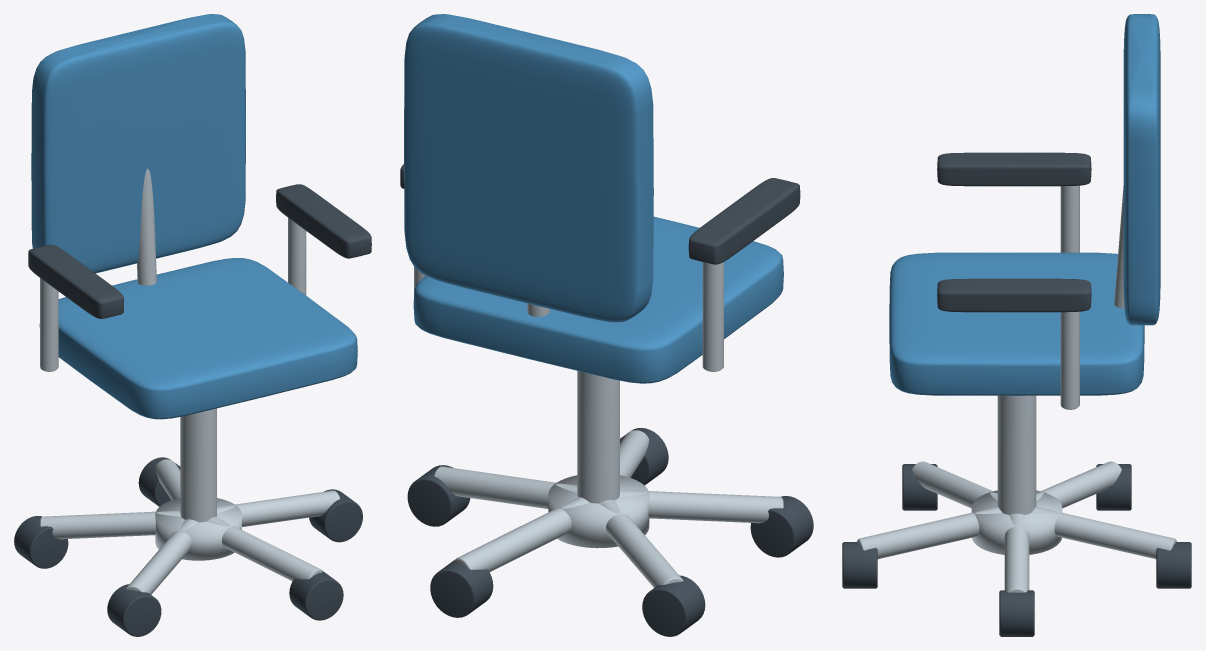
File: engineer_chair.glb
3 renders of one model, left to right at view 1: azimuth 30°, elevation 25°; view 2: azimuth 150°, elevation 25°; view 3: azimuth 270°, elevation 25°, orthographic. The views are drawn at different scales.
Visible parts, largest first — view 1: Backrest_Cushion, Seat_Cushion, Gas_Lift_Outer, Armrest_0.28, Armrest_-0.28, Five_Spoke_Hub, Spoke_3, Spoke_1, Spoke_0, Caster_Wheel_2, Caster_Wheel_1, Spoke_2 (+7 smaller); view 2: Backrest_Cushion, Seat_Cushion, Gas_Lift_Outer, Armrest_-0.28, Five_Spoke_Hub, Spoke_2, Spoke_4, Spoke_0, Caster_Wheel_3, Caster_Wheel_4, Caster_Wheel_2, Spoke_3 (+4 smaller); view 3: Seat_Cushion, Backrest_Cushion, Armrest_-0.28, Armrest_0.28, Gas_Lift_Outer, Five_Spoke_Hub, Spoke_1, Spoke_4, Armrest_Support_0.28, Spoke_0, Spoke_2, Spoke_3 (+7 smaller).
Boxes of the visible parts, bbox=[...] form: Backrest_Cushion: bbox=[31, 14, 245, 273]; Seat_Cushion: bbox=[39, 258, 357, 419]; Gas_Lift_Outer: bbox=[180, 408, 216, 522]; Armrest_0.28: bbox=[276, 184, 371, 258]; Armrest_-0.28: bbox=[28, 244, 123, 318]; Five_Spoke_Hub: bbox=[155, 498, 241, 560]; Spoke_3: bbox=[39, 510, 180, 539]; Spoke_1: bbox=[207, 517, 322, 581]; Spoke_0: bbox=[217, 490, 339, 526]; Caster_Wheel_2: bbox=[107, 584, 161, 636]; Caster_Wheel_1: bbox=[289, 570, 343, 620]; Spoke_2: bbox=[126, 519, 198, 594]; Backrest_Cushion: bbox=[404, 14, 653, 322]; Seat_Cushion: bbox=[413, 216, 783, 383]; Gas_Lift_Outer: bbox=[577, 371, 619, 503]; Armrest_-0.28: bbox=[688, 178, 800, 264]; Five_Spoke_Hub: bbox=[548, 475, 649, 548]; Spoke_2: bbox=[619, 490, 783, 523]; Spoke_4: bbox=[454, 497, 589, 571]; Spoke_0: bbox=[434, 466, 577, 508]; Caster_Wheel_3: bbox=[642, 575, 705, 636]; Caster_Wheel_4: bbox=[430, 560, 493, 617]; Caster_Wheel_2: bbox=[750, 496, 813, 557]; Spoke_3: bbox=[599, 500, 683, 587]; Seat_Cushion: bbox=[889, 252, 1144, 395]; Backrest_Cushion: bbox=[1123, 14, 1160, 325]; Armrest_-0.28: bbox=[937, 152, 1091, 186]; Armrest_0.28: bbox=[937, 278, 1091, 312]; Gas_Lift_Outer: bbox=[997, 395, 1036, 514]; Five_Spoke_Hub: bbox=[971, 490, 1062, 554]; Spoke_1: bbox=[857, 506, 1002, 559]; Spoke_4: bbox=[1031, 506, 1176, 559]; Armrest_Support_0.28: bbox=[1060, 311, 1079, 409]; Spoke_0: bbox=[1004, 513, 1029, 592]; Spoke_2: bbox=[912, 461, 997, 508]; Spoke_3: bbox=[1036, 461, 1121, 508].
Bounding box in the file's own units: 0.6665 × 1.06 × 0.6557.
